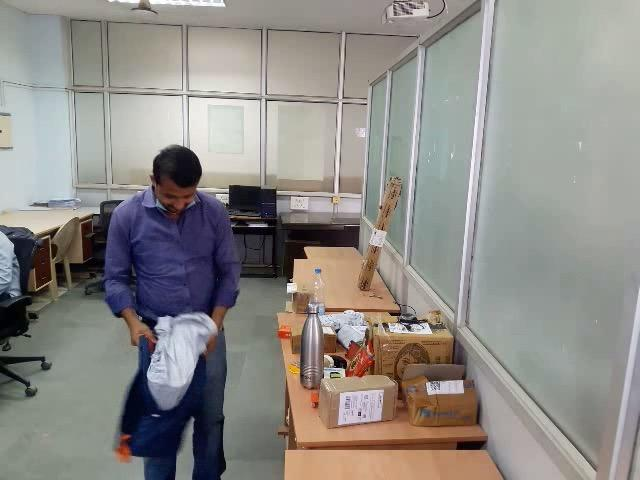shoplifting: (95, 267, 261, 480)
